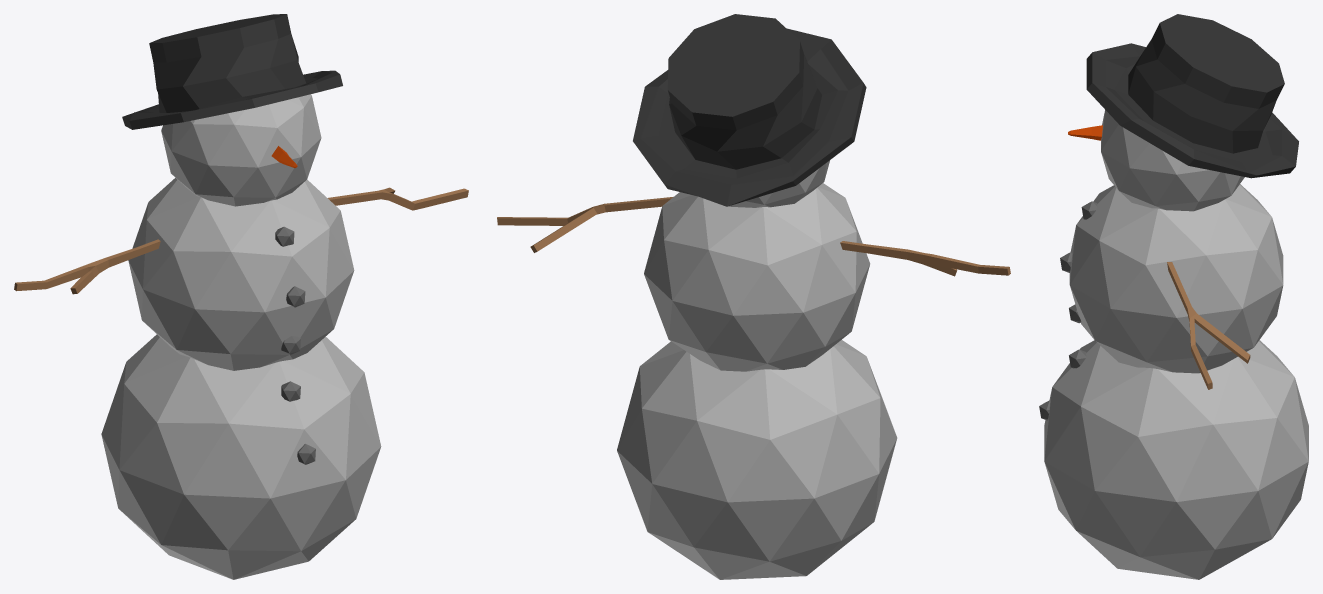
The model's file is Snowman.fbx.
3 views of the same model, side by side, from view 1: azimuth 30°, elevation 25°; view 2: azimuth 150°, elevation 25°; view 3: azimuth 270°, elevation 25° (orthographic).
Visible parts, largest first — view 1: Cone; view 2: Cone; view 3: Cone.
Part boxes in pixels (x1,y1,x2,y2): Cone: (14,14,468,579); Cone: (497,14,1010,579); Cone: (1039,14,1308,579).
Size of the model in its own units: 131 by 143 by 64.28.
